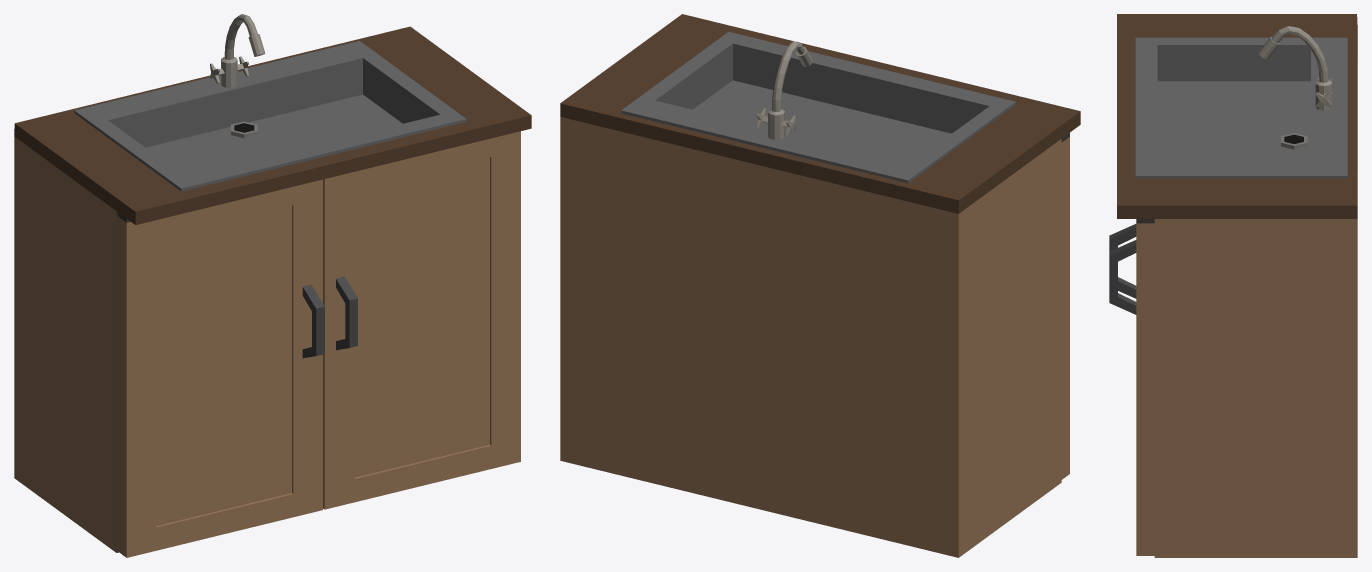
File: Kitchen_Cabinet_5B.fbx
3 views of the same model, side by side, from view 1: azimuth 30°, elevation 25°; view 2: azimuth 150°, elevation 25°; view 3: azimuth 270°, elevation 25° (orthographic).
Parts seen in each view (by area): view 1: polySurface2173; view 2: polySurface2173; view 3: polySurface2173.
Part boxes in pixels (box(x1,y1,x2,y2)): polySurface2173: box(14, 14, 531, 557); polySurface2173: box(560, 14, 1080, 557); polySurface2173: box(1109, 14, 1357, 557).
Size of the model in its own units: 1.56 by 1.65 by 0.8527.
1 material, 1 textured.
